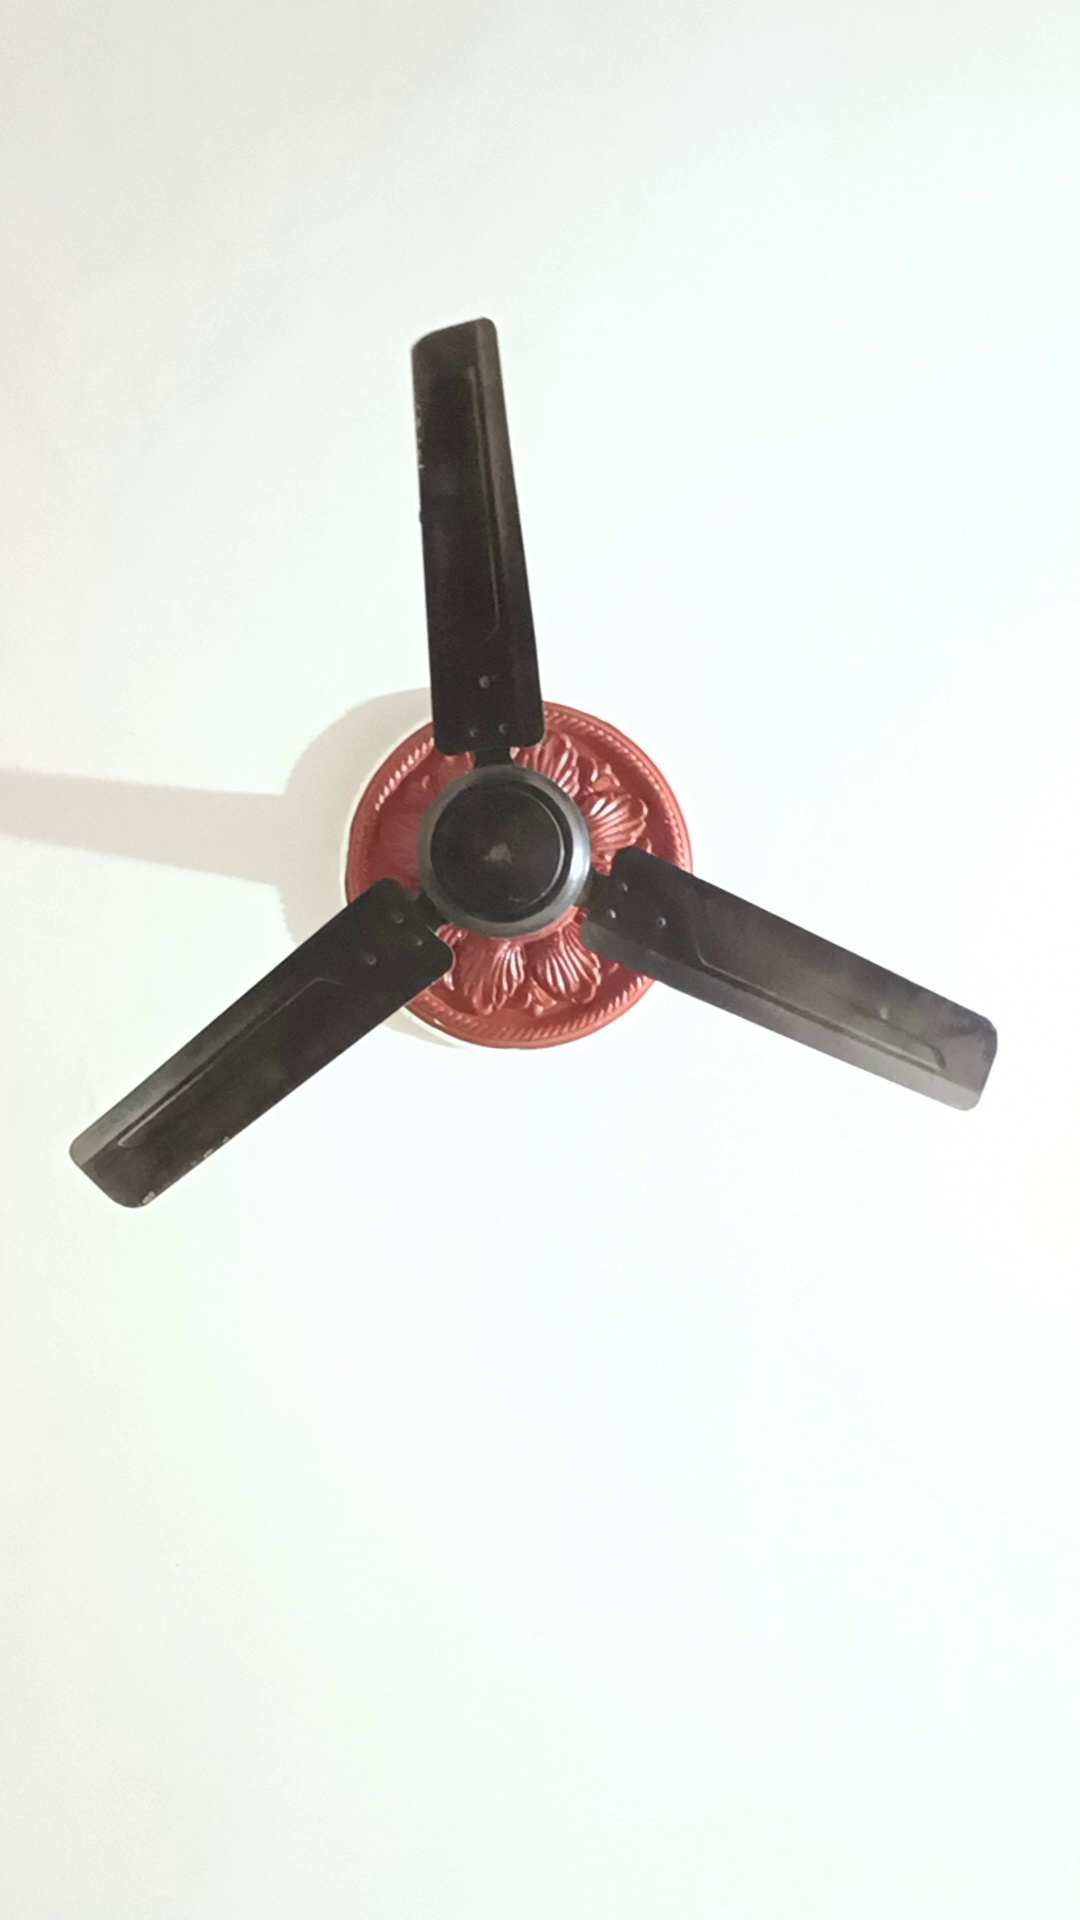fan: (66, 305, 1017, 1240)
